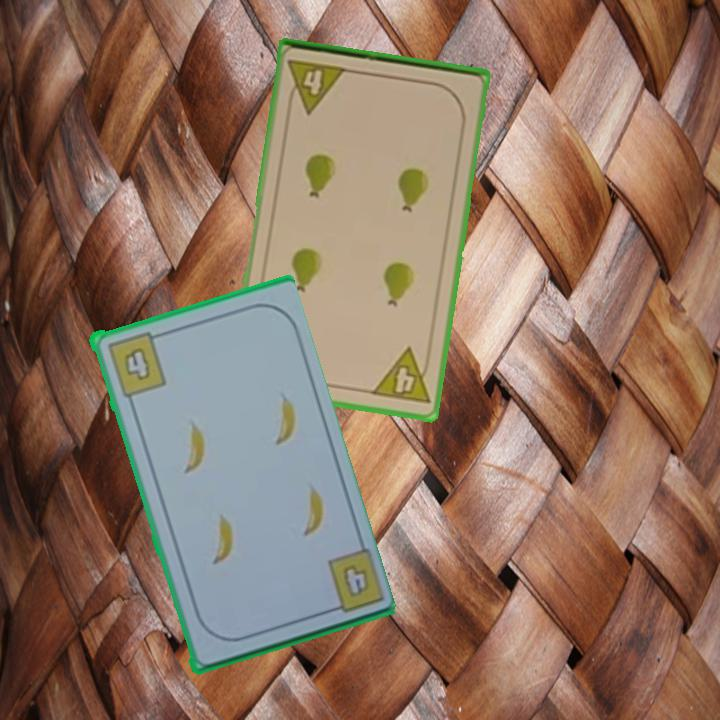4b: (102, 327, 169, 399), (320, 544, 385, 617)
4p: (367, 344, 435, 407), (284, 56, 350, 116)
